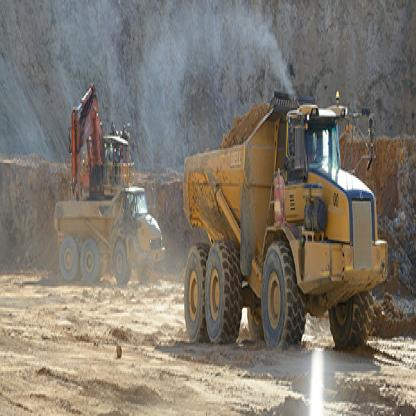dump_truck: (171, 75, 395, 366), (52, 183, 168, 296)
